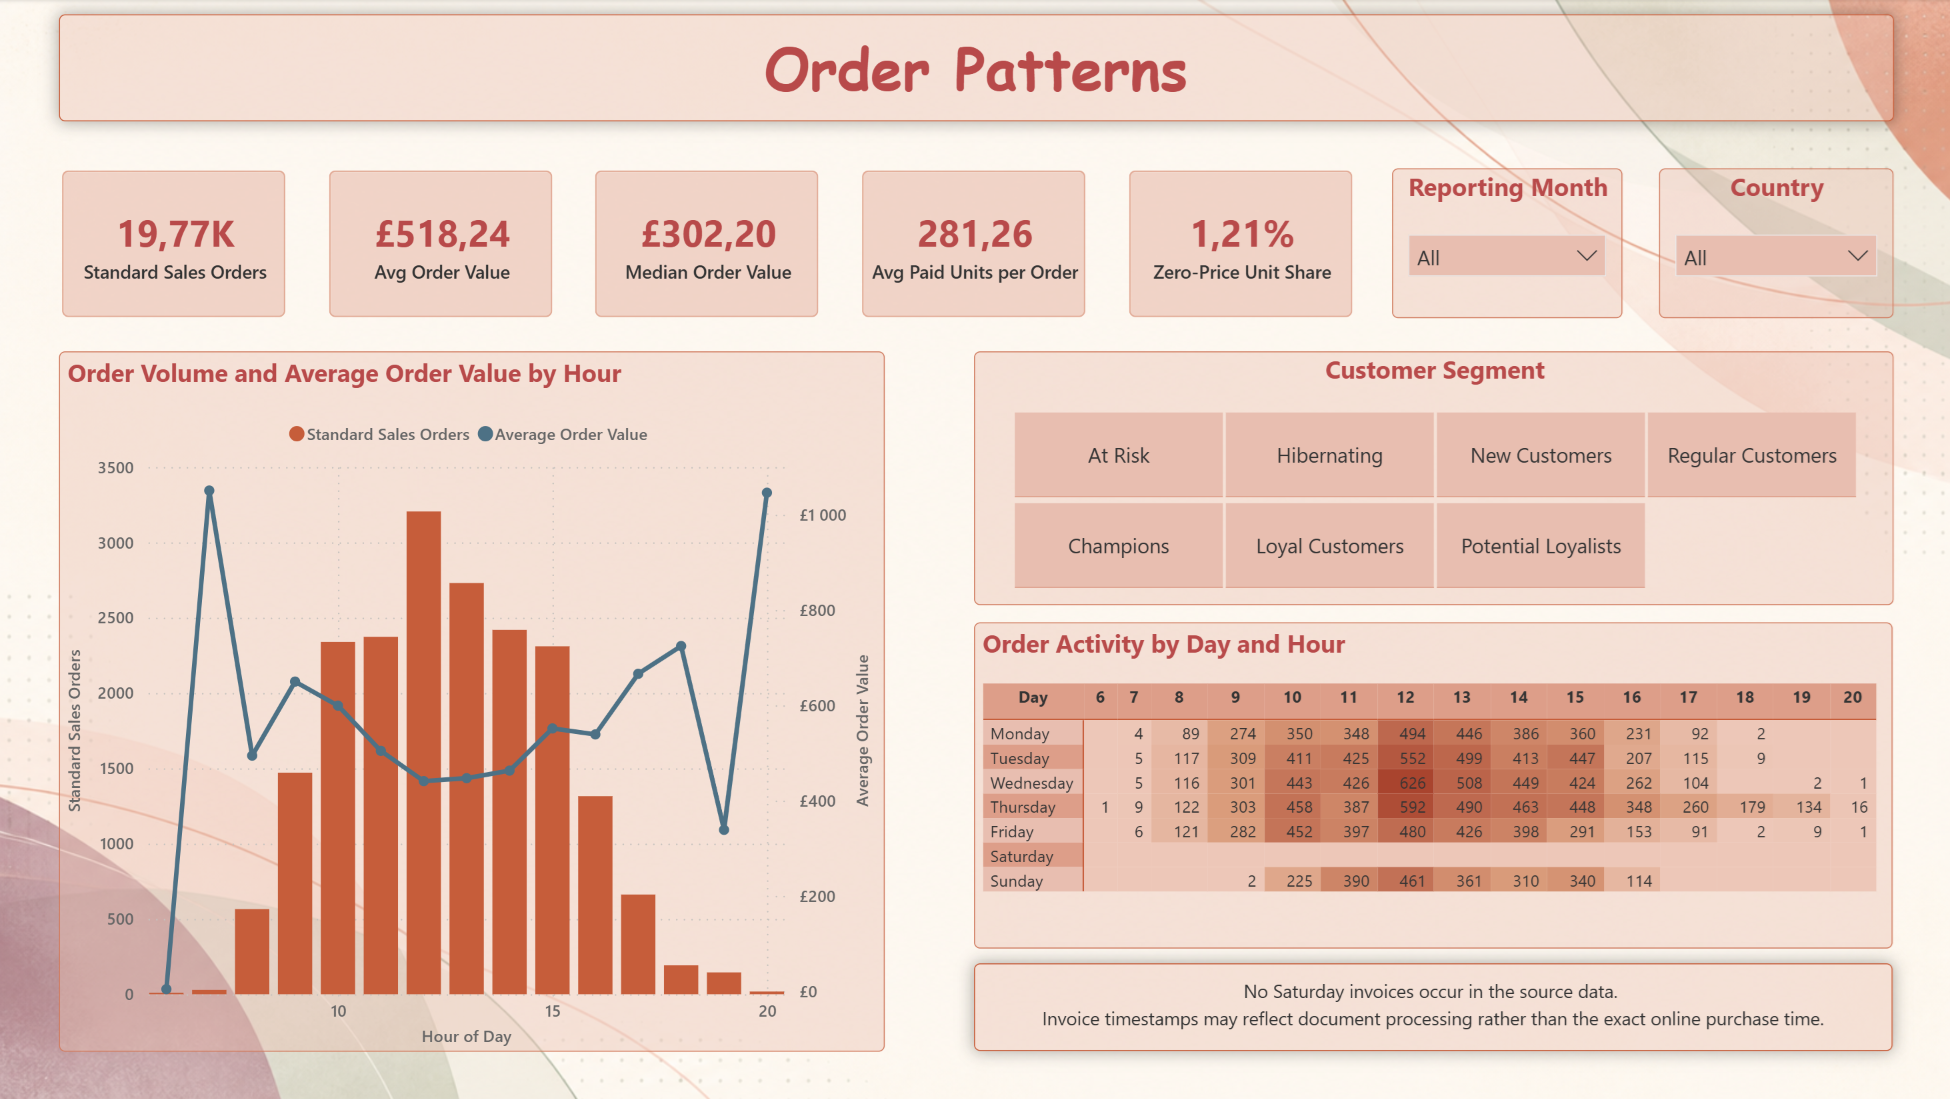

This screenshot's page, from the dashboard's own definition file:
{"tool":"powerbi","page":{"name":"Order Patterns","canvas":[1280,720],"ordinal":3},"visuals":[{"type":"cardVisual","fields":{"Data":["_Measures.Standard Sales Orders"]},"box":[40,110,150,100],"z":0},{"type":"cardVisual","fields":{"Data":["_Measures.Average Order Value"]},"box":[214.4,110,150,100],"z":1000},{"type":"cardVisual","fields":{"Data":["_Measures.Median Order Value"]},"box":[388.7,110,150,100],"z":2000},{"type":"cardVisual","fields":{"Data":["_Measures.Average Paid Units per Order"]},"box":[563.1,110,150,100],"z":3000},{"type":"cardVisual","fields":{"Data":["_Measures.Zero-Price Unit Share"]},"box":[737.5,110,150,100],"z":4000},{"type":"textbox","box":[40,10,1200,70],"z":5000},{"type":"lineClusteredColumnComboChart","title":"Order Volume and Average Order Value by Hour","fields":{"Category":["fact_transactions.invoice_hour"],"Y":["_Measures.Standard Sales Orders"],"Y2":["_Measures.Average Order Value"]},"box":[39.9,230.2,540.2,457.8],"z":6000},{"type":"pivotTable","title":"Order Activity by Day and Hour","fields":{"Columns":["fact_transactions.invoice_hour"],"Rows":["dim_date.day_name"],"Values":["_Measures.Standard Sales Orders"]},"box":[638.3,407.4,601,213.2],"z":7000},{"type":"textbox","box":[638.3,630.4,601,57.5],"z":8000},{"type":"slicer","title":"Customer Segment","fields":{"Values":["dim_customer.customer_segment"]},"box":[638.3,230.2,601.6,166.1],"z":9000},{"type":"slicer","title":"Reporting Month","fields":{"Values":["dim_date.Month Year"]},"box":[911.6,110.5,150.4,98.1],"z":10000},{"type":"slicer","title":"Country","fields":{"Values":["dim_country.country_name"]},"box":[1086.2,110.5,153,98.1],"z":11000}]}

Visuals, with their boxes in screenshot pixels (x1, y1, x2, y2), scaled from the page's 1280x720 canvas onto the 1950x1099 screenshot:
cardVisual - _Measures.Standard Sales Orders: Rect(61, 168, 289, 321)
cardVisual - _Measures.Average Order Value: Rect(327, 168, 555, 321)
cardVisual - _Measures.Median Order Value: Rect(592, 168, 821, 321)
cardVisual - _Measures.Average Paid Units per Order: Rect(858, 168, 1086, 321)
cardVisual - _Measures.Zero-Price Unit Share: Rect(1124, 168, 1352, 321)
textbox: Rect(61, 15, 1889, 122)
"Order Volume and Average Order Value by Hour" lineClusteredColumnComboChart: Rect(61, 351, 884, 1050)
"Order Activity by Day and Hour" pivotTable: Rect(972, 622, 1888, 947)
textbox: Rect(972, 962, 1888, 1050)
"Customer Segment" slicer: Rect(972, 351, 1889, 605)
"Reporting Month" slicer: Rect(1389, 169, 1618, 318)
"Country" slicer: Rect(1655, 169, 1888, 318)
